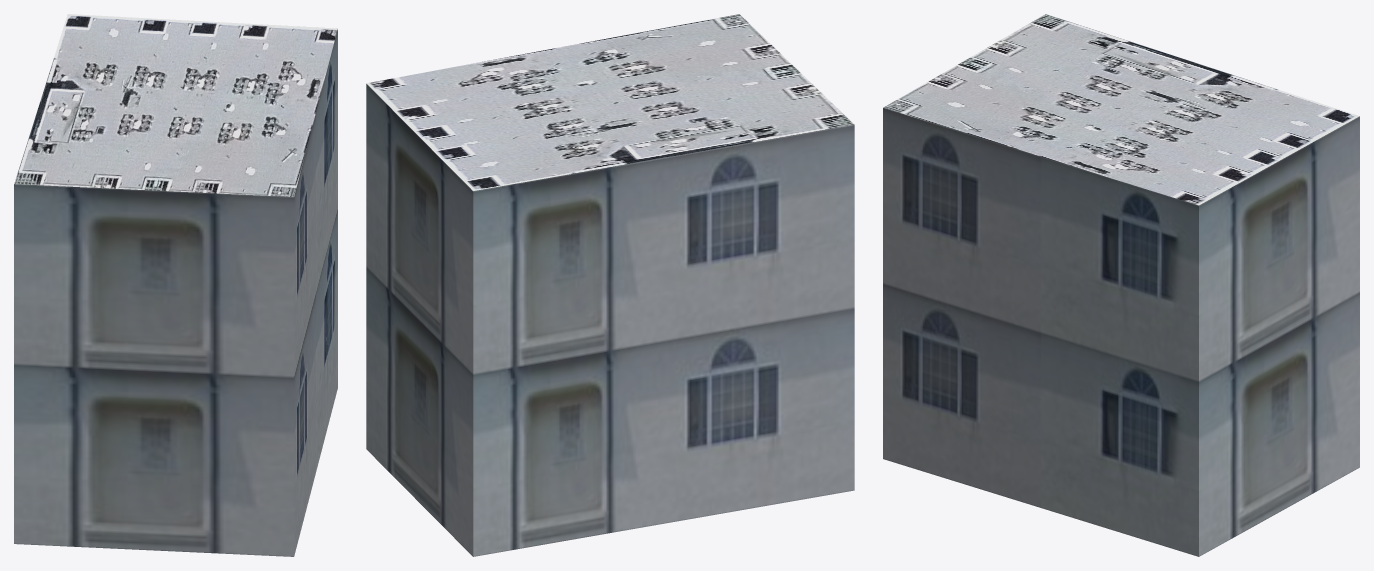
File: ResTex__95.fbx
3 views of the same model, side by side, from view 1: azimuth 30°, elevation 25°; view 2: azimuth 150°, elevation 25°; view 3: azimuth 270°, elevation 25° (orthographic). The views are drawn at different scales.
Visible parts, largest first — view 1: CityEngineMaterial_17_m, CityEngineMaterial_2_m; view 2: CityEngineMaterial_17_m, CityEngineMaterial_2_m; view 3: CityEngineMaterial_17_m, CityEngineMaterial_2_m.
Boxes of the visible parts, x1=… form: CityEngineMaterial_17_m: x1=14, y1=29, x2=337, y2=556; CityEngineMaterial_2_m: x1=14, y1=14, x2=337, y2=196; CityEngineMaterial_17_m: x1=366, y1=84, x2=854, y2=556; CityEngineMaterial_2_m: x1=366, y1=14, x2=854, y2=190; CityEngineMaterial_17_m: x1=883, y1=107, x2=1359, y2=556; CityEngineMaterial_2_m: x1=883, y1=14, x2=1359, y2=205.
Bounding box in the file's own units: 7.02 × 6 × 7.38.
Materials: 2 (2 with a texture image).
